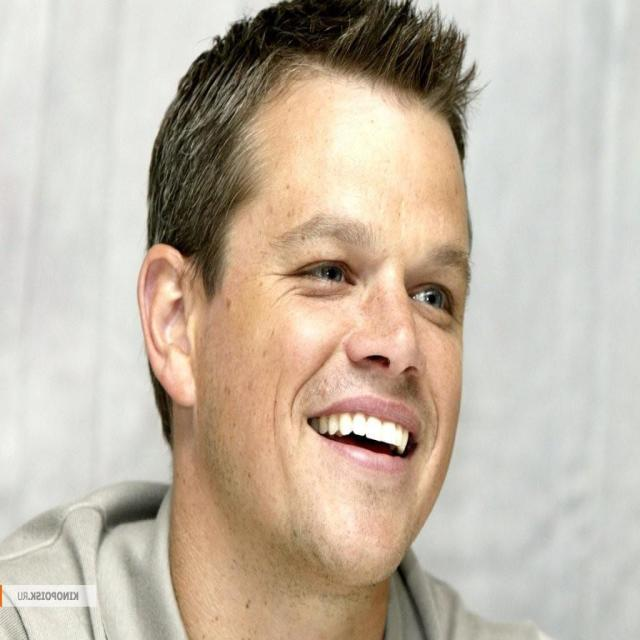no-earmuff: (134, 225, 212, 417)
